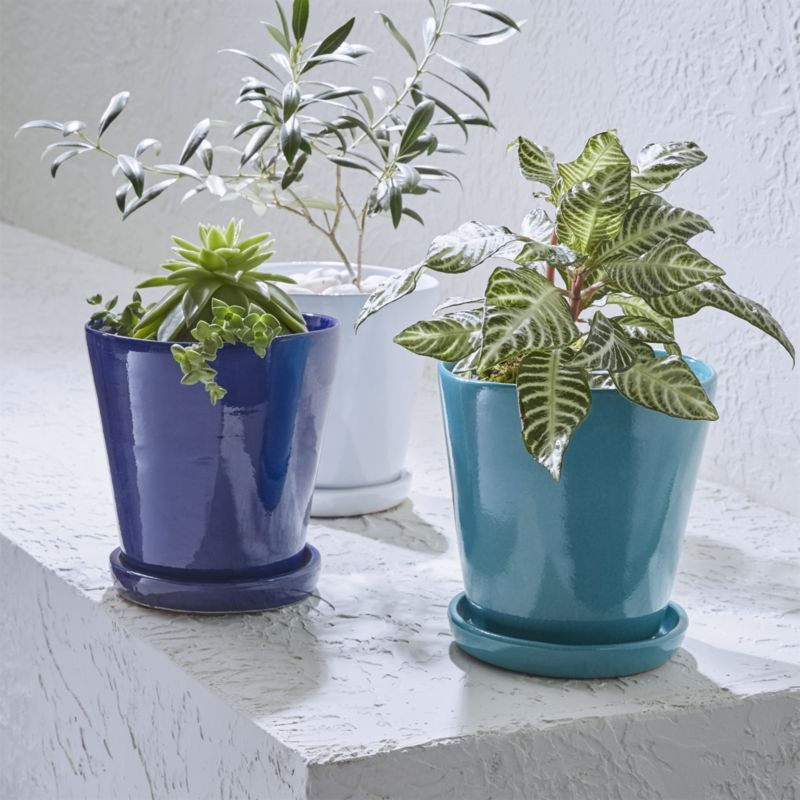flowerpot: (428, 337, 715, 677), (86, 312, 337, 608), (228, 268, 437, 518)
